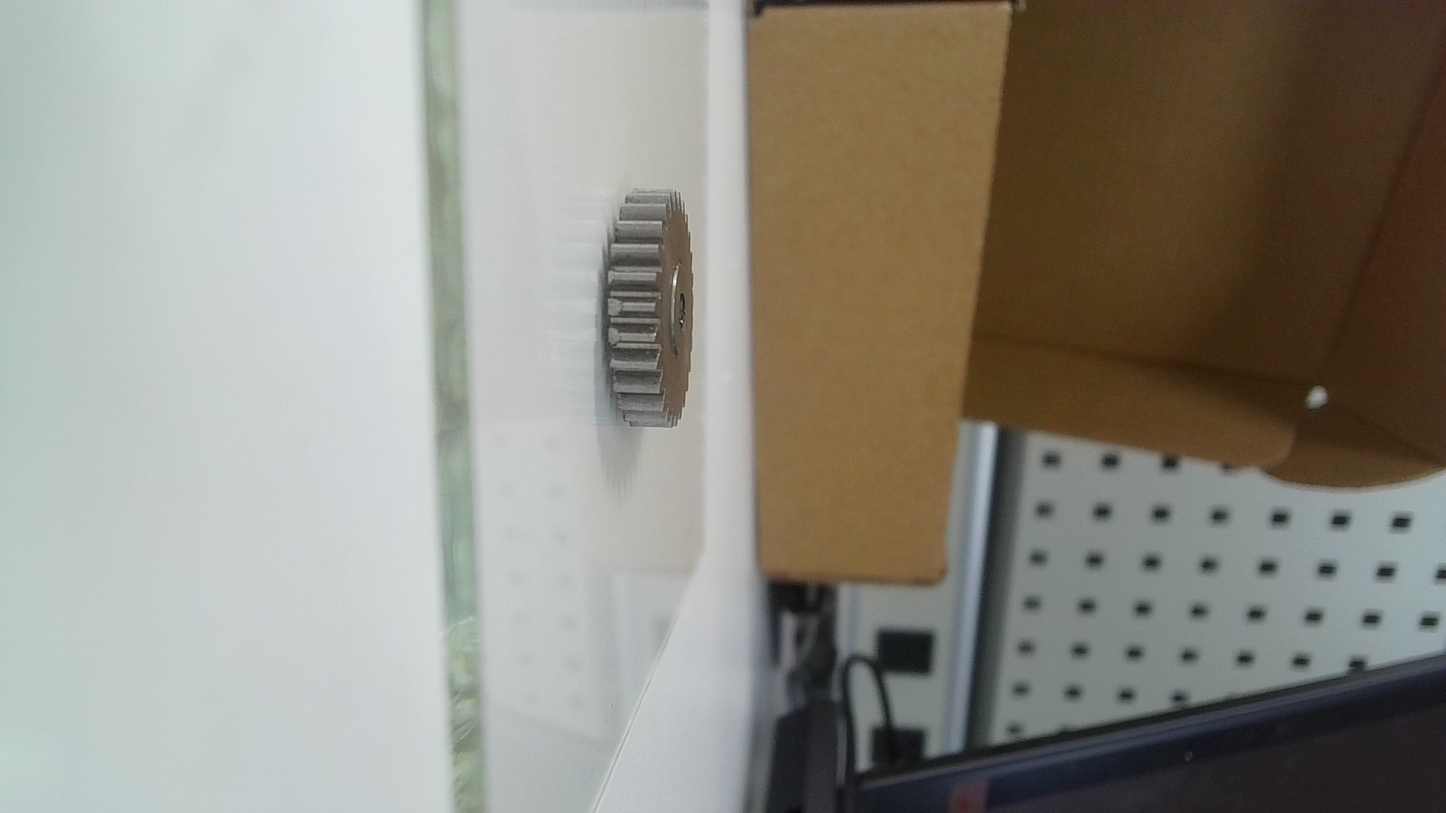gear: (603, 178, 700, 431)
